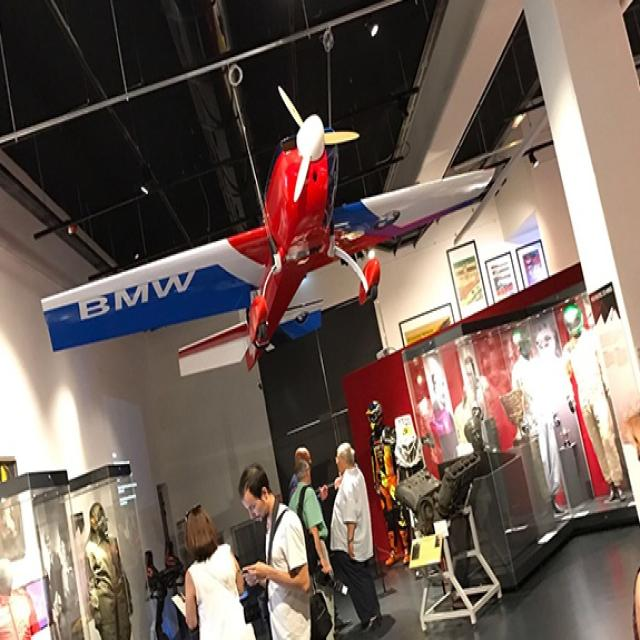body: (364, 298, 639, 568), (0, 471, 140, 638), (236, 461, 314, 638), (326, 440, 383, 635), (182, 500, 252, 638), (287, 457, 335, 640), (286, 444, 344, 506), (632, 568, 639, 638)
